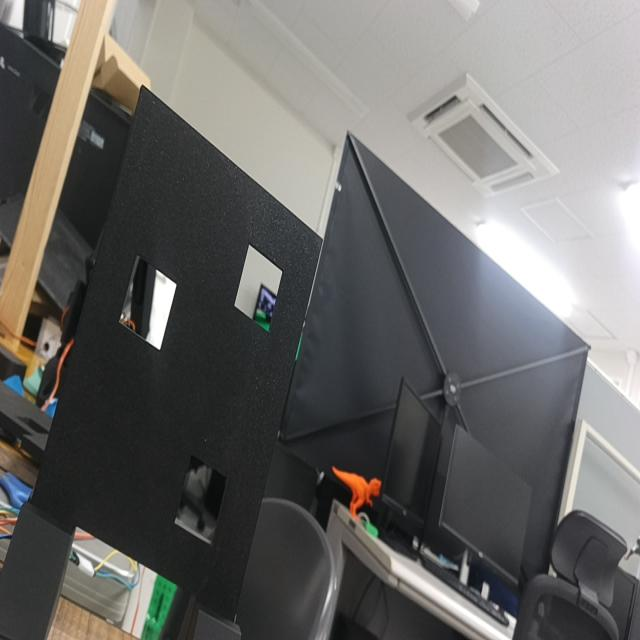Obstacle: (119, 256, 178, 347), (174, 455, 226, 544), (235, 245, 283, 330)
Wall: (33, 88, 323, 620)
